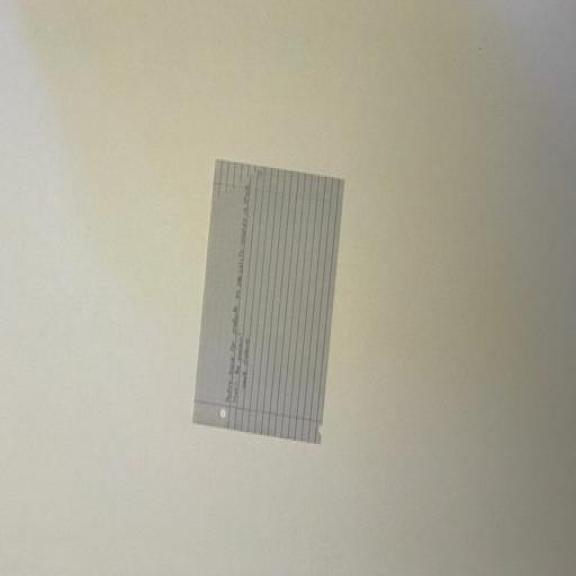Kertas: (189, 153, 347, 464)
